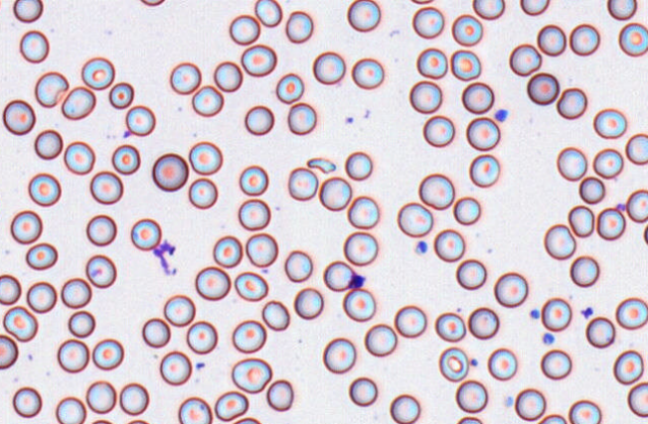PLT: (540, 333, 557, 347), (414, 240, 429, 255), (580, 305, 594, 320), (494, 108, 509, 122), (502, 395, 516, 407), (529, 309, 541, 320), (468, 356, 479, 368)
RBC: (231, 357, 272, 393), (151, 152, 188, 191), (2, 305, 38, 342), (397, 201, 433, 237), (418, 173, 454, 209), (493, 271, 528, 307), (194, 265, 230, 300), (61, 85, 96, 120), (322, 337, 356, 373), (188, 140, 222, 175), (231, 319, 266, 353), (465, 116, 500, 150), (543, 223, 576, 259), (240, 43, 276, 76), (2, 99, 35, 135), (343, 231, 377, 265), (89, 170, 123, 204), (27, 172, 61, 206), (81, 56, 115, 90), (318, 176, 351, 211), (159, 350, 192, 385), (245, 232, 278, 267), (342, 287, 375, 321), (57, 338, 89, 373), (10, 209, 42, 244), (63, 140, 95, 175), (364, 323, 397, 356), (526, 72, 559, 105), (615, 297, 648, 330), (409, 80, 442, 113), (312, 51, 345, 84), (508, 43, 541, 76), (461, 81, 494, 114), (433, 228, 465, 262), (347, 195, 379, 229), (468, 153, 500, 187), (455, 379, 487, 413), (394, 304, 426, 338), (593, 107, 627, 139), (556, 146, 587, 181), (613, 349, 644, 384), (85, 253, 116, 288), (438, 346, 468, 382), (514, 387, 546, 420), (467, 306, 499, 339), (191, 84, 223, 117), (91, 338, 124, 370), (351, 57, 384, 89), (169, 61, 201, 94), (85, 380, 116, 414), (287, 166, 318, 200), (214, 390, 248, 421), (540, 297, 571, 331), (186, 320, 217, 354), (346, 0, 380, 31), (238, 198, 270, 230), (163, 294, 195, 326), (422, 115, 454, 147), (412, 6, 444, 38), (26, 280, 57, 313), (130, 217, 161, 250), (451, 13, 482, 46), (569, 23, 600, 56), (234, 271, 268, 301), (19, 29, 49, 63), (323, 260, 355, 291), (455, 258, 486, 290), (434, 311, 466, 342), (540, 348, 571, 380), (228, 14, 260, 45), (556, 87, 587, 119), (416, 47, 447, 79), (592, 147, 623, 179), (85, 214, 116, 246), (450, 49, 481, 81), (596, 207, 626, 240), (212, 235, 242, 268), (119, 382, 149, 415), (487, 347, 517, 380), (618, 22, 647, 56), (60, 277, 91, 308), (293, 287, 323, 319), (569, 255, 599, 287), (188, 177, 218, 209), (585, 316, 615, 348), (238, 164, 268, 196), (125, 104, 155, 136), (536, 24, 566, 56), (287, 102, 316, 135), (12, 386, 42, 417), (389, 393, 420, 423), (244, 104, 274, 135), (213, 60, 242, 92), (111, 143, 140, 175), (284, 249, 312, 282), (285, 10, 313, 43), (178, 396, 212, 423), (141, 317, 170, 348), (275, 72, 304, 103), (34, 128, 63, 159), (25, 242, 57, 270), (567, 204, 594, 237), (348, 376, 377, 406), (261, 299, 289, 330), (266, 379, 293, 411), (452, 196, 481, 225), (55, 396, 86, 423), (344, 151, 372, 180), (568, 399, 601, 423), (67, 310, 95, 338), (578, 175, 605, 204), (625, 189, 648, 222), (254, 0, 282, 27), (625, 133, 648, 165), (108, 81, 134, 109), (627, 381, 647, 417), (12, 0, 43, 22), (0, 273, 21, 305), (0, 333, 18, 369), (472, 0, 504, 20), (606, 0, 637, 20), (519, 0, 549, 15), (537, 413, 567, 423), (232, 416, 262, 423), (456, 415, 482, 423), (139, 0, 165, 6), (90, 418, 115, 424), (643, 221, 648, 247), (125, 418, 150, 423), (409, 0, 435, 4), (0, 189, 2, 222)
Schistocyte: (35, 71, 68, 108), (304, 158, 337, 173)
